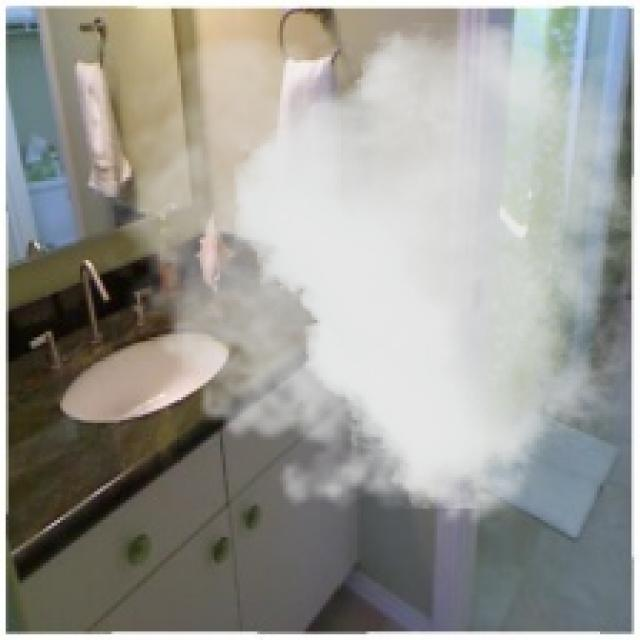smoke: (92, 23, 637, 540)
